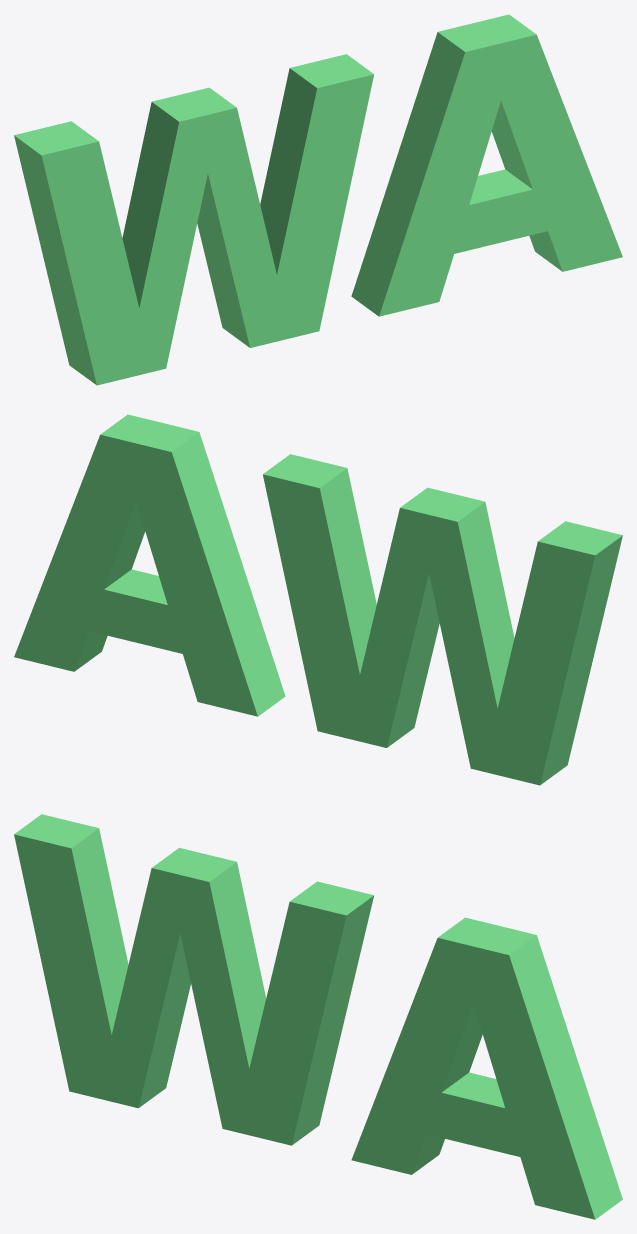
The model's file is suku_besar_wa.glb.
The picture shows the model from 3 angles, top to bottom: view 1: azimuth 30°, elevation 25°; view 2: azimuth 150°, elevation 25°; view 3: azimuth 330°, elevation 25°; orthographic projection.
Parts seen in each view (by area): view 1: geometry_0; view 2: geometry_0; view 3: geometry_0.
Boxes of the visible parts, x1,y1,x2,y2 form: geometry_0: (14, 14, 622, 385); geometry_0: (14, 414, 622, 785); geometry_0: (14, 814, 622, 1219).
Bounding box in the file's own units: 18.21 × 7.29 × 1.5.
